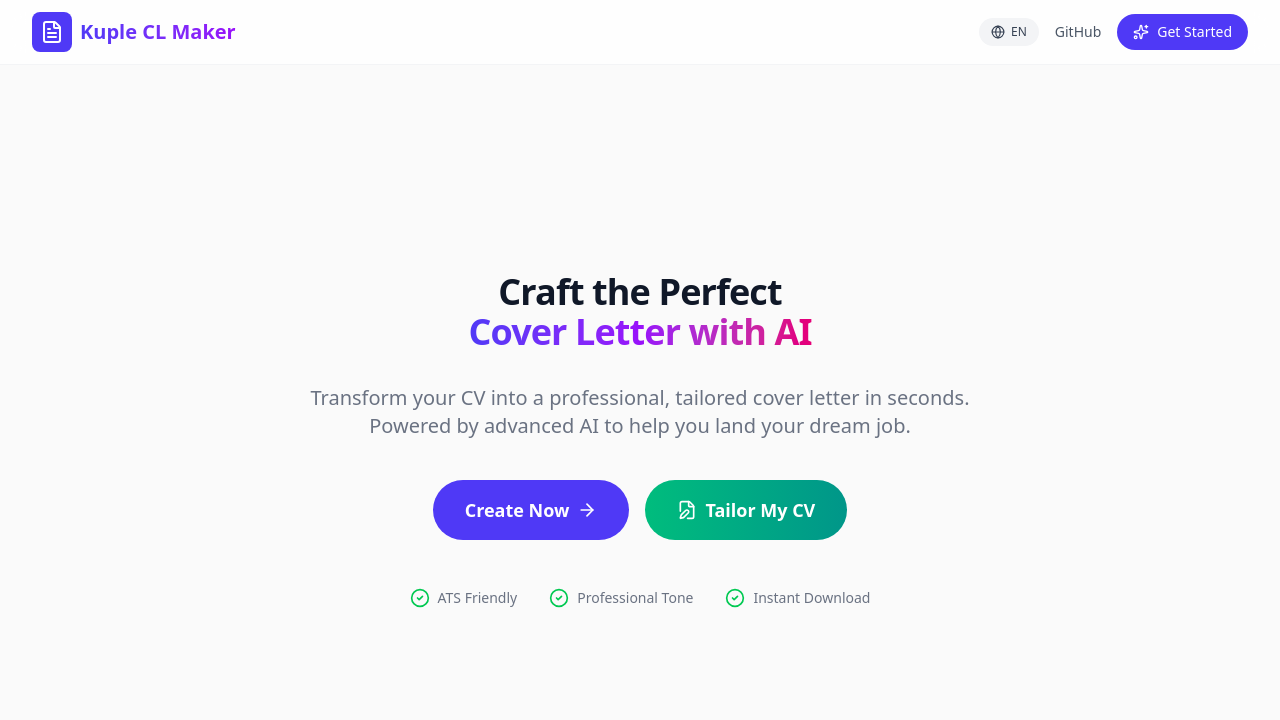
Test: App - Integration Tests › Language switching › should switch from English to Indonesian
The image size is (1280, 720).
Click the language toggle
Click the button "EN" at (1009, 32), box [979, 18, 1039, 46]
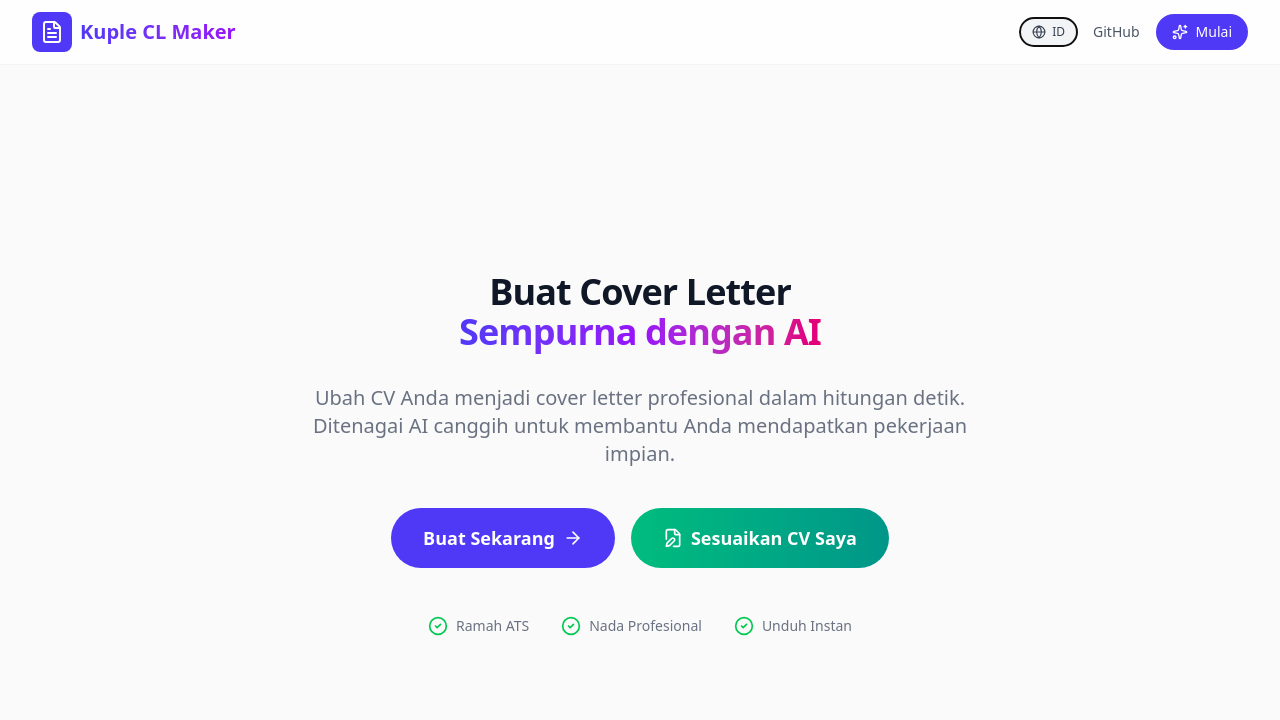
expect the heading "Buat Cover Letter Sempurna dengan AI" is shown: met, box [459, 267, 821, 356]
expect the text "Sempurna dengan AI" is shown: met, box [459, 307, 821, 356]
